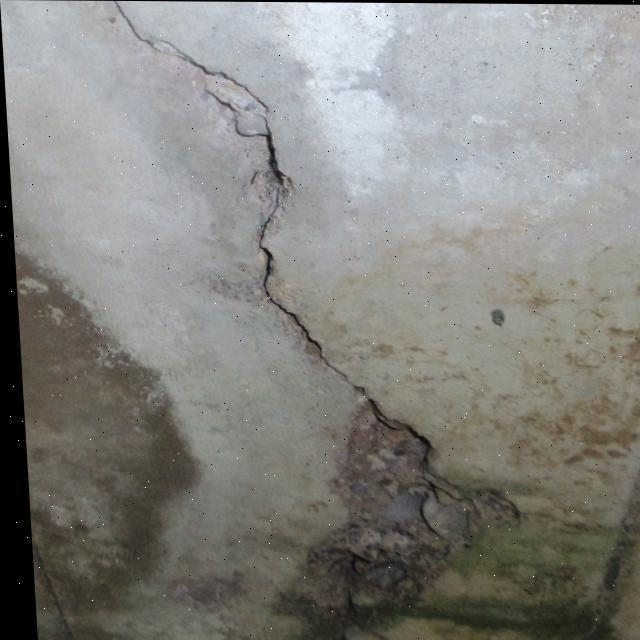D01: (290, 2, 405, 198)
